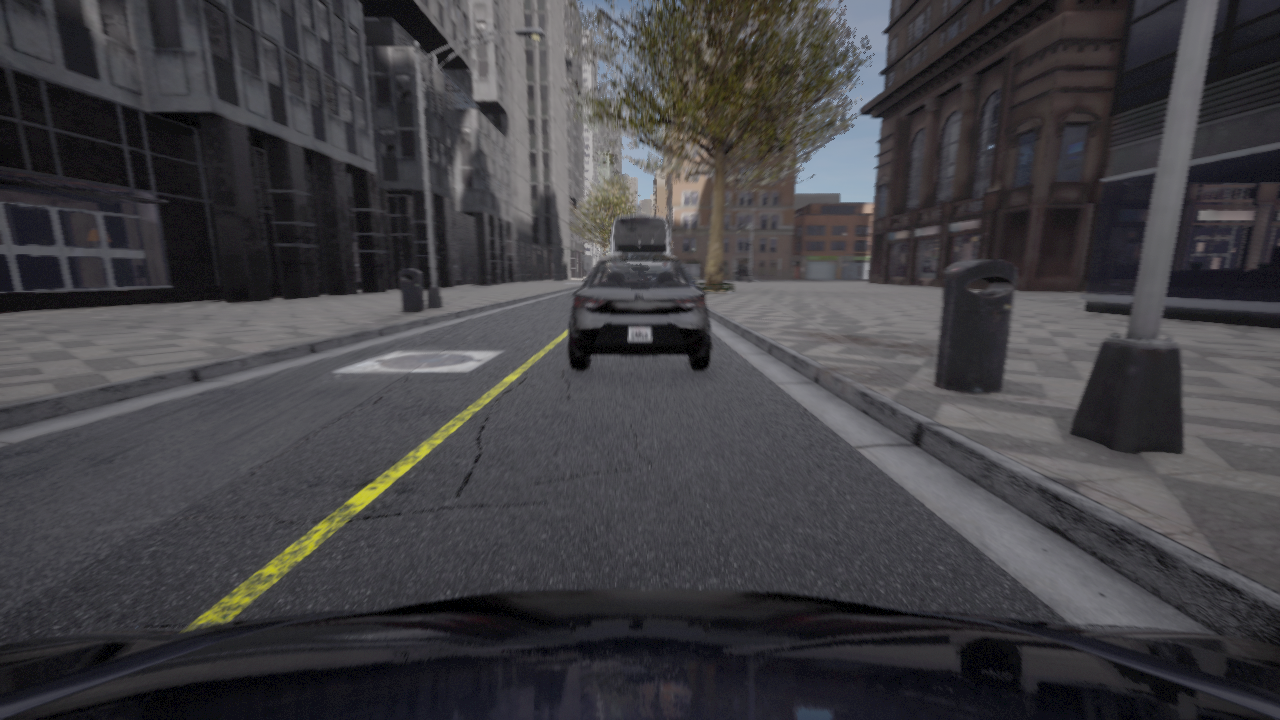cyclist: (0, 588, 1279, 719), (568, 253, 711, 370), (611, 215, 669, 254)
